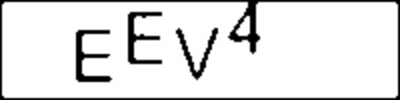4: (225, 1, 265, 55)
E: (70, 26, 117, 87), (124, 8, 170, 68)
V: (171, 24, 222, 80)
